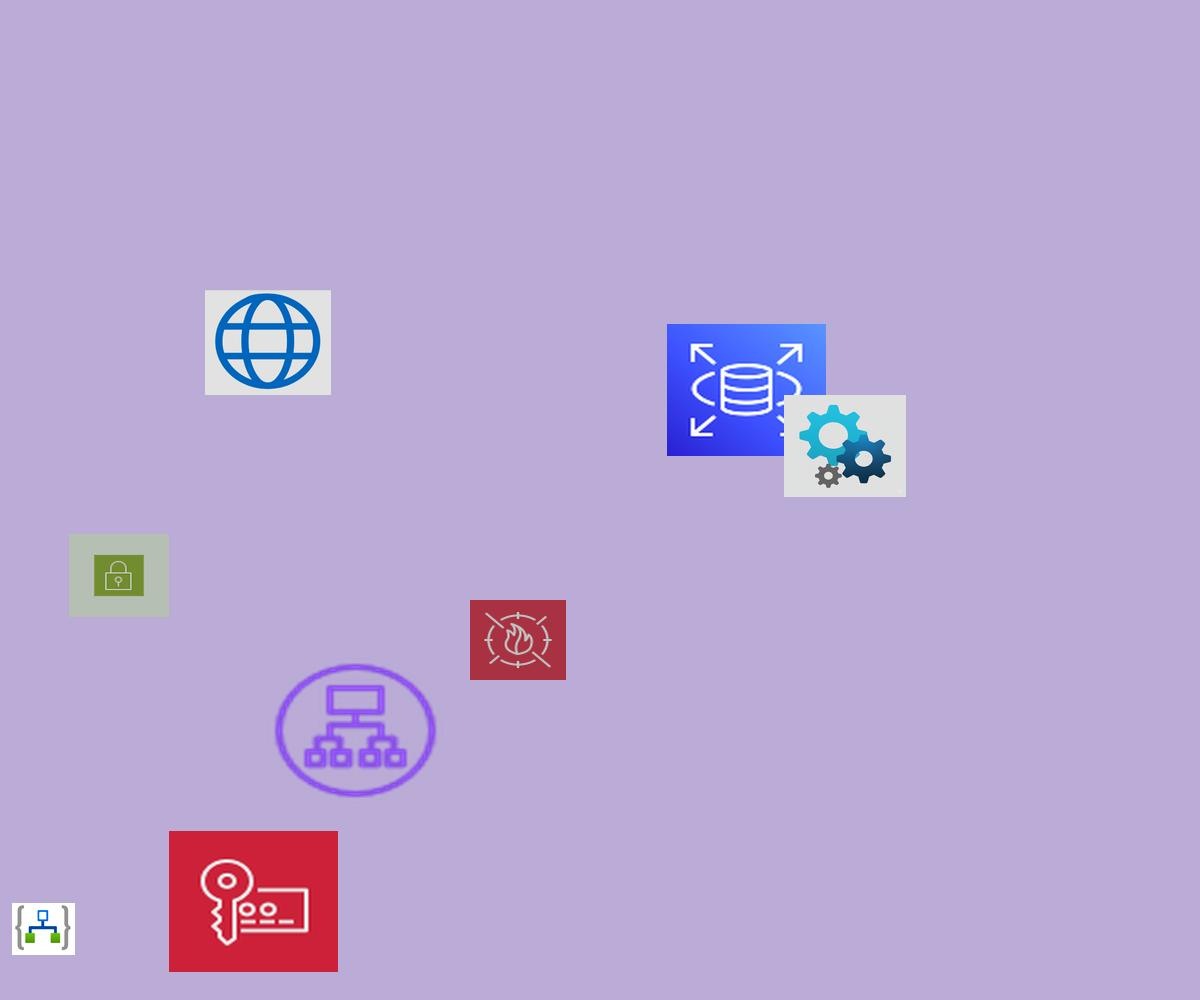AWS-Key-Management-Service: (169, 831, 338, 972)
AWS-Public-subnet: (69, 534, 169, 617)
AWS-RDS: (667, 324, 826, 456)
AWS-Res_Elastic-Load-Balancing_Application-Load-Balancer: (268, 658, 443, 803)
AWS-WAF: (470, 600, 566, 680)
Azure_api: (784, 395, 906, 497)
Azure_http: (205, 290, 331, 395)
Azure_integration-204-Logic-Apps: (12, 903, 75, 955)
